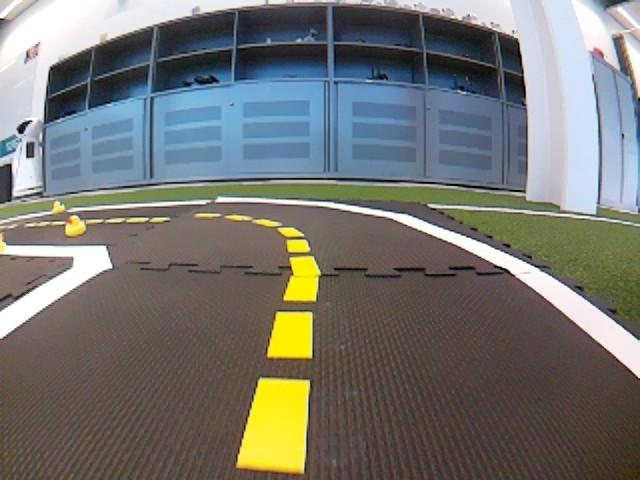Duckies: (64, 215, 87, 237), (52, 201, 65, 214)
